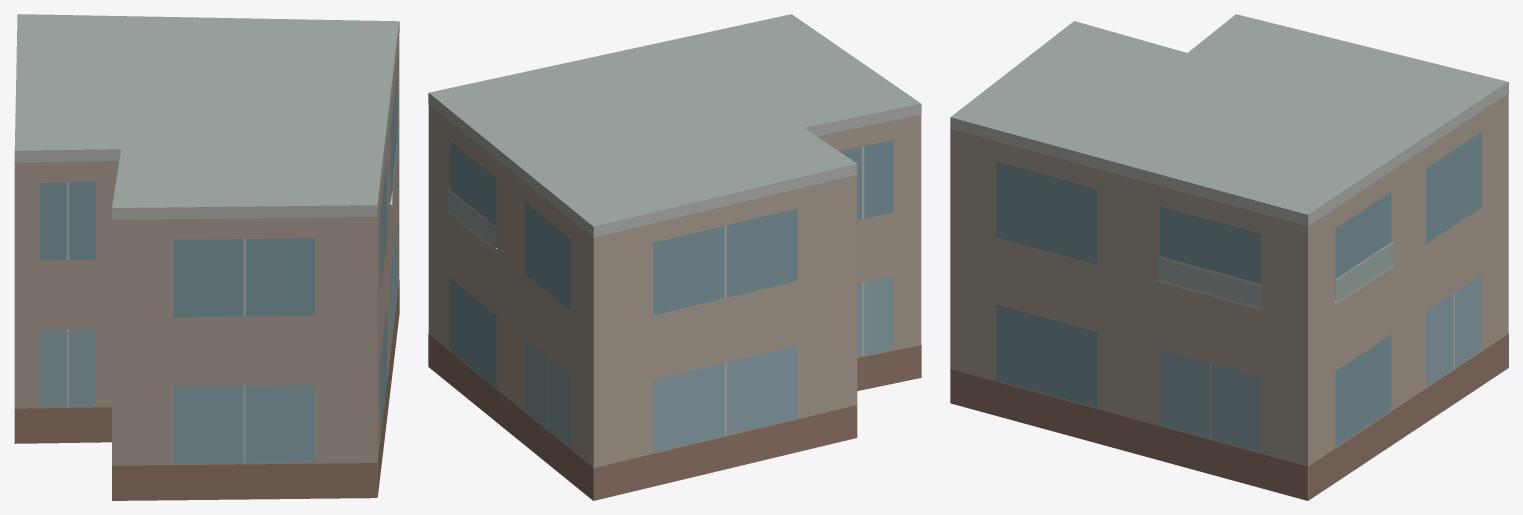
File: survey-upis-32764392.glb
3 renders of one model, left to right at view 1: azimuth 30°, elevation 25°; view 2: azimuth 150°, elevation 25°; view 3: azimuth 270°, elevation 25°, orthographic. The views are drawn at different scales.
Parts seen in each view (by area): view 1: survey-upis-32764392.tmp; view 2: survey-upis-32764392.tmp; view 3: survey-upis-32764392.tmp.
Boxes of the visible parts, x1=… form: survey-upis-32764392.tmp: x1=14, y1=14, x2=399, y2=500; survey-upis-32764392.tmp: x1=428, y1=14, x2=921, y2=500; survey-upis-32764392.tmp: x1=950, y1=14, x2=1508, y2=500.
Bounding box in the file's own units: 9.2 × 6.1 × 10.8.
